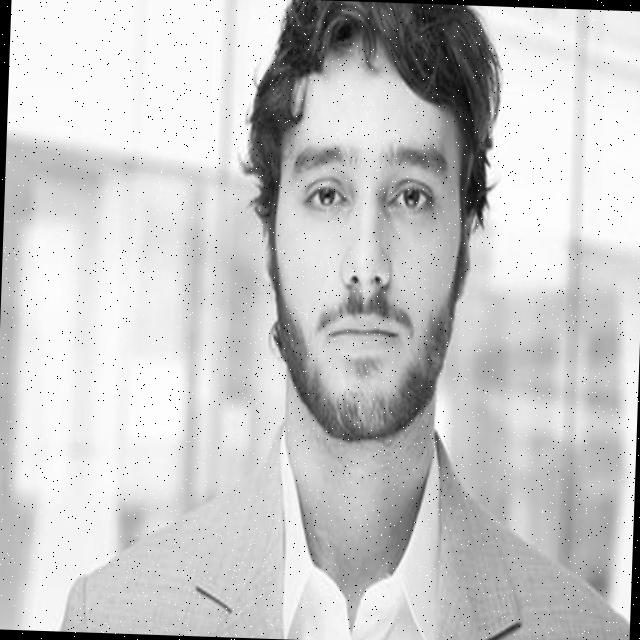Neutral: (268, 45, 467, 442)
